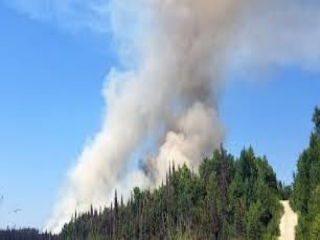smoke: (62, 3, 241, 223)
